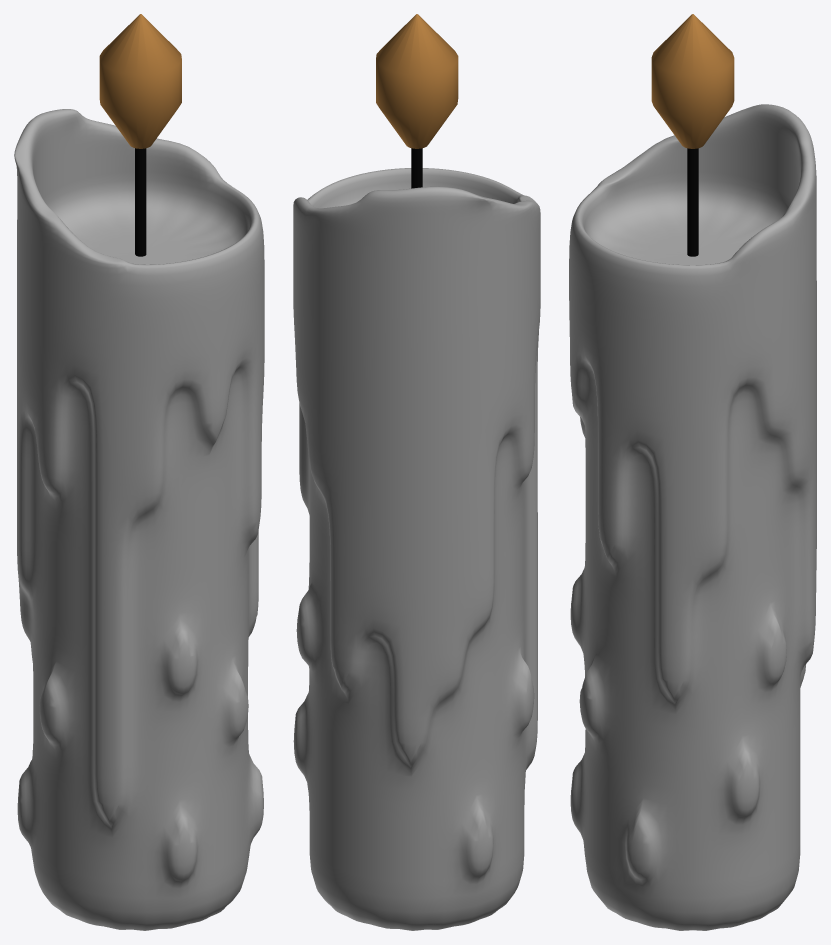
File: Lit Candle.fbx
3 renders of one model, left to right at view 1: azimuth 30°, elevation 25°; view 2: azimuth 150°, elevation 25°; view 3: azimuth 270°, elevation 25°, orthographic.
Visible parts, largest first — view 1: Candle1; view 2: Candle1; view 3: Candle1.
Part boxes in pixels (x1,y1,x2,y2): Candle1: (14,14,264,930); Candle1: (293,14,540,930); Candle1: (569,14,816,930).
Size of the model in its own units: 2.96 by 11.67 by 2.96.
